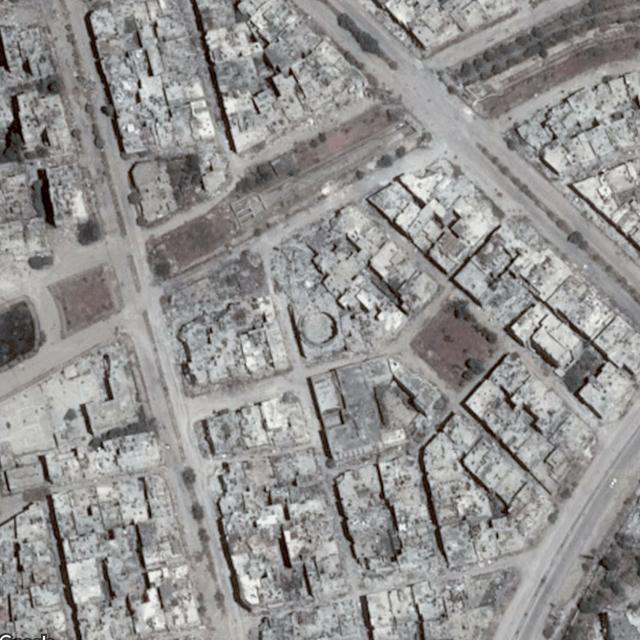damaged_building: (336, 410, 552, 586), (202, 393, 346, 613), (271, 208, 404, 366), (176, 293, 287, 382), (398, 156, 504, 242), (409, 566, 523, 640), (289, 40, 374, 128), (491, 214, 571, 300), (253, 600, 361, 640)
